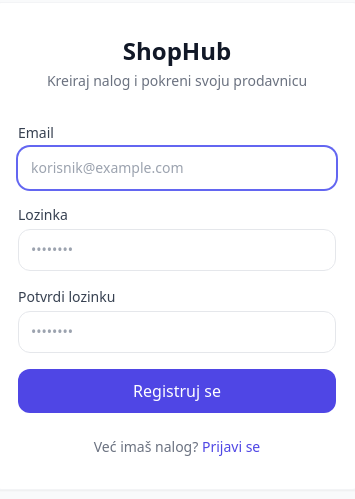
Test case: RegisterPage › shows 409 error when email already exists
In the field with placeholder "korisnik@example.com": (177, 168) x1=18 y1=147 x2=336 y2=189, type "taken@example.com"
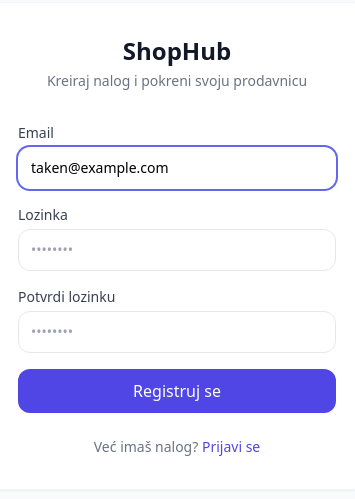
In the password field with placeholder "••••••••" below "Lozinka": (177, 250) x1=18 y1=229 x2=336 y2=271, type "password123"
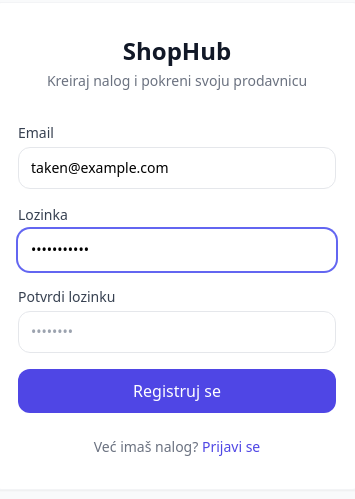
In the password field with placeholder "••••••••": (177, 332) x1=18 y1=311 x2=336 y2=353, type "password123"
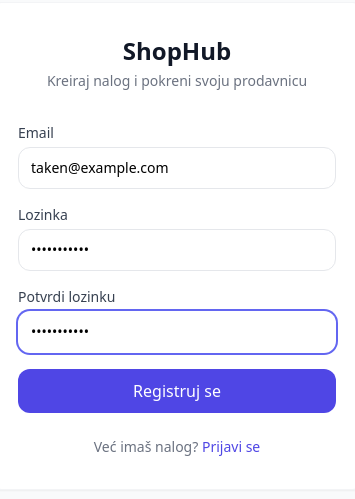
Click the button "Registruj se": (177, 391) x1=18 y1=369 x2=336 y2=413
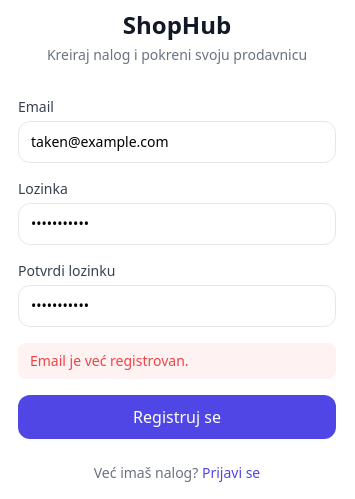
Result: the text "Email je već registrovan." is shown at x1=18 y1=343 x2=336 y2=379
